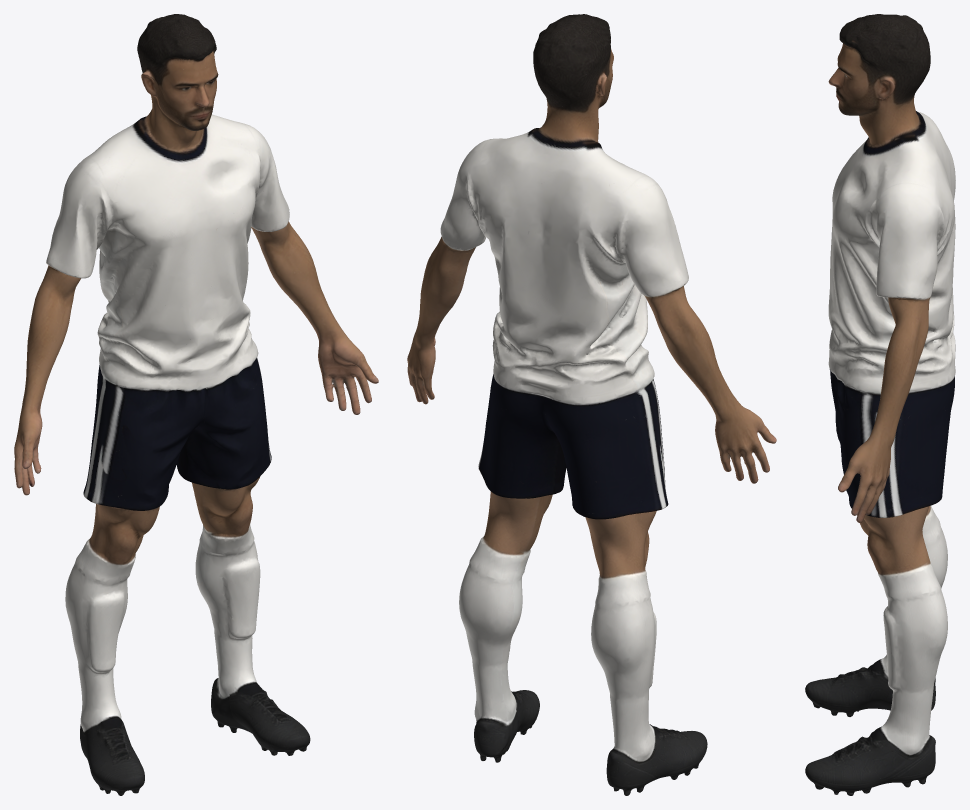
File: meshy-lite-raw.glb
The picture shows the model from 3 angles, left to right: view 1: azimuth 30°, elevation 25°; view 2: azimuth 150°, elevation 25°; view 3: azimuth 270°, elevation 25°; orthographic projection.
Size of the model in its own units: 0.9586 by 1.9 by 0.3533.
Materials: 1 (1 with a texture image).
